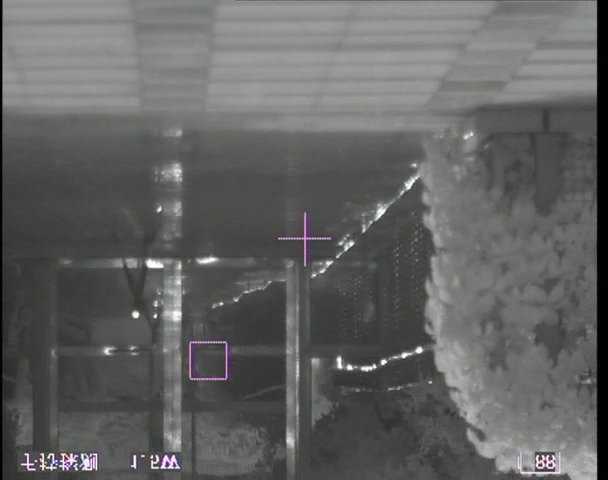my: (131, 309, 140, 320)
